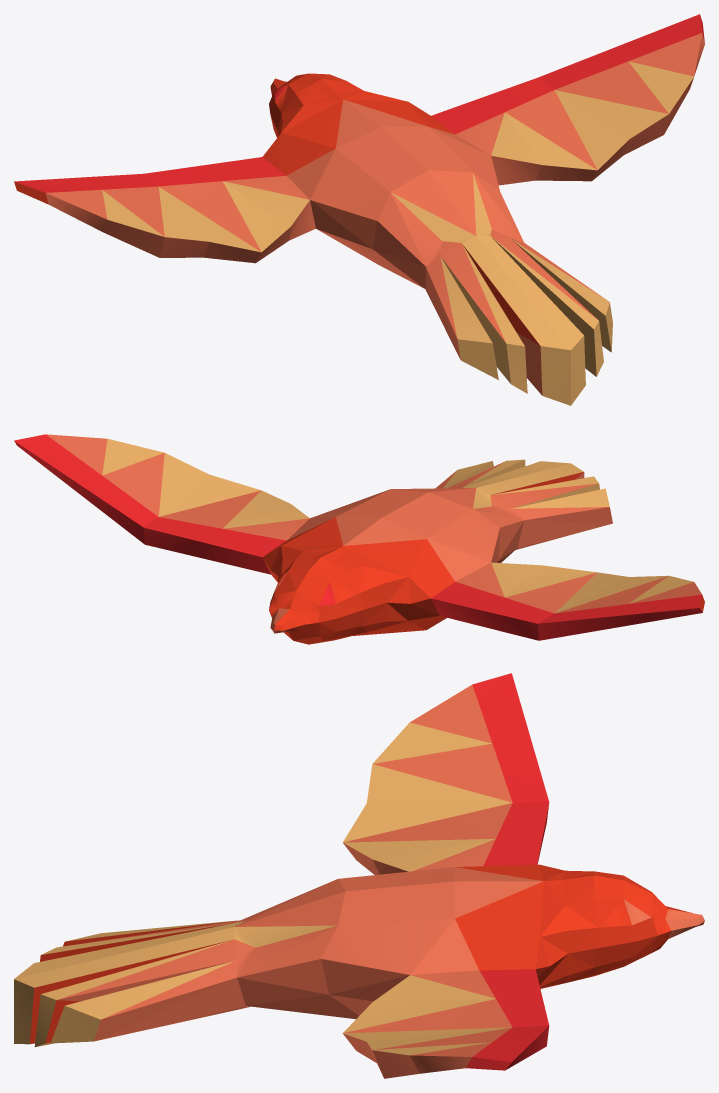
File: Pajaro.fbx
The picture shows the model from 3 angles, top to bottom: view 1: azimuth 30°, elevation 25°; view 2: azimuth 150°, elevation 25°; view 3: azimuth 270°, elevation 25°; orthographic projection. The views are drawn at different scales.
Visible parts, largest first — view 1: Plane001; view 2: Plane001; view 3: Plane001.
Part boxes in pixels (box(x1,y1,x2,y2)): Plane001: box(14, 14, 704, 405); Plane001: box(14, 434, 704, 644); Plane001: box(14, 673, 704, 1078).
Bounding box in the file's own units: 930 × 196 × 698.
